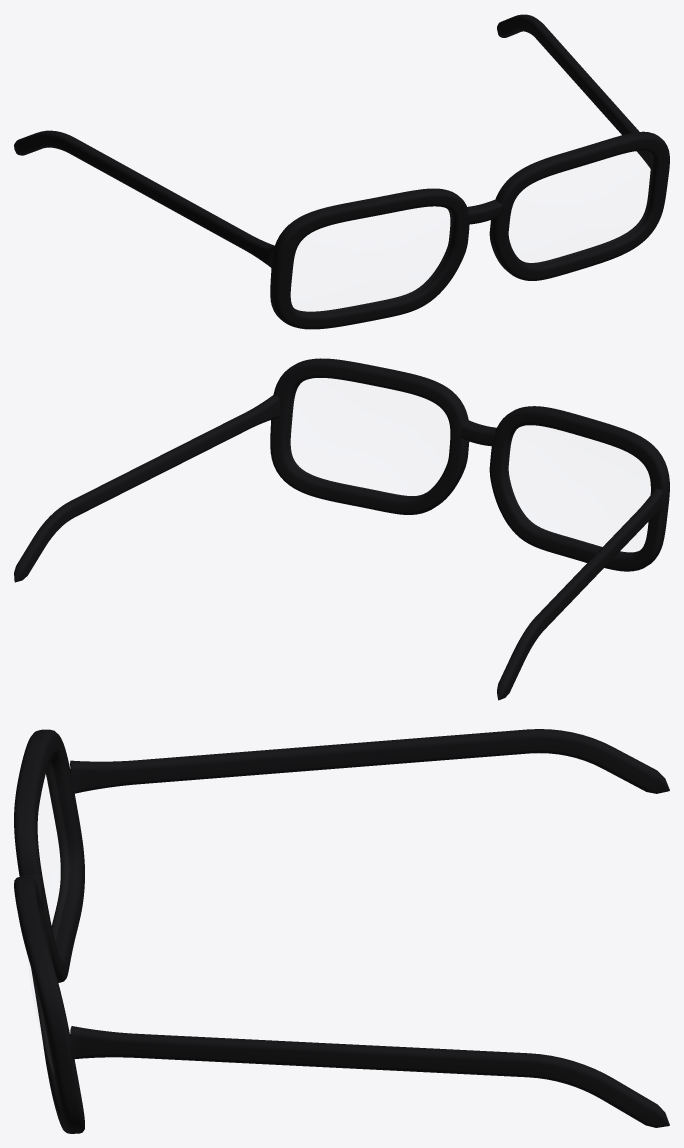
The model's file is rect-black.glb.
The picture shows the model from 3 angles, top to bottom: view 1: azimuth 30°, elevation 25°; view 2: azimuth 150°, elevation 25°; view 3: azimuth 270°, elevation 25°; orthographic projection. The views are drawn at different scales.
Visible parts, largest first — view 1: glasses; view 2: glasses; view 3: glasses.
Boxes of the visible parts, bbox=[...] form: glasses: bbox=[14, 14, 669, 329]; glasses: bbox=[14, 358, 669, 700]; glasses: bbox=[14, 729, 669, 1133].
Bounding box in the file's own units: 0.1697 × 0.0428 × 0.1382.
Materials: 2 (1 with a texture image).
